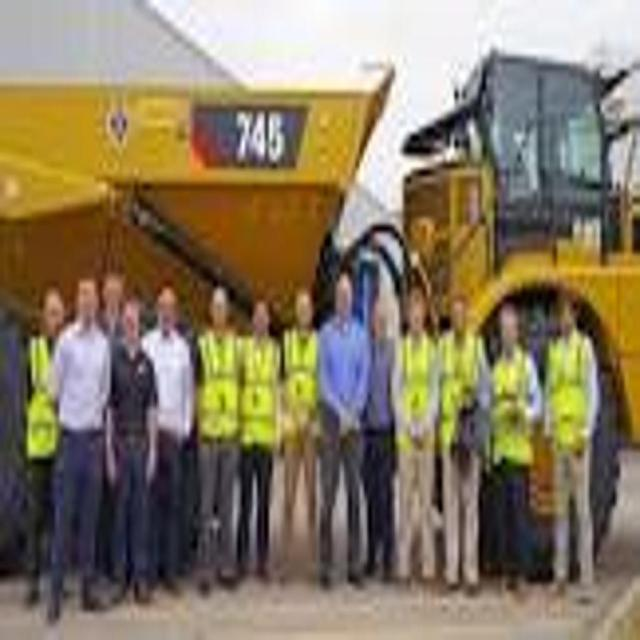dump_truck: (0, 61, 640, 281)
